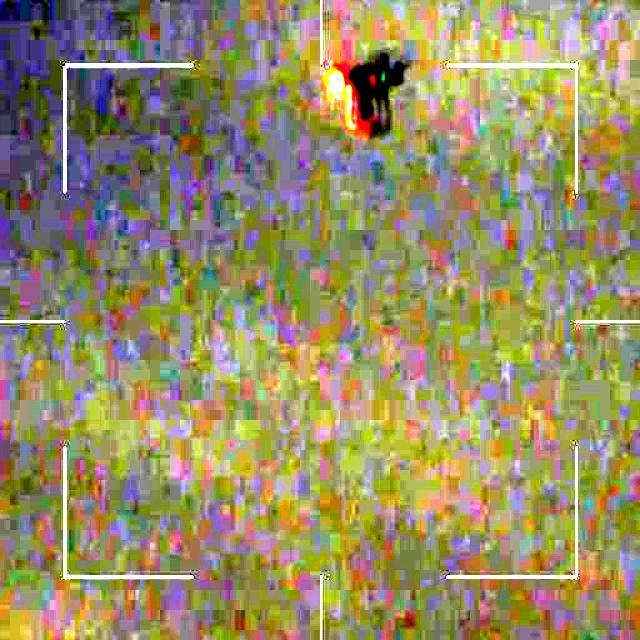bird: (325, 56, 408, 145)
